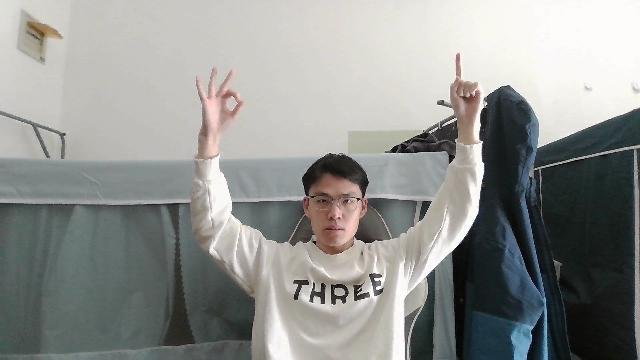ok: (195, 64, 244, 134)
one: (447, 50, 486, 132)
